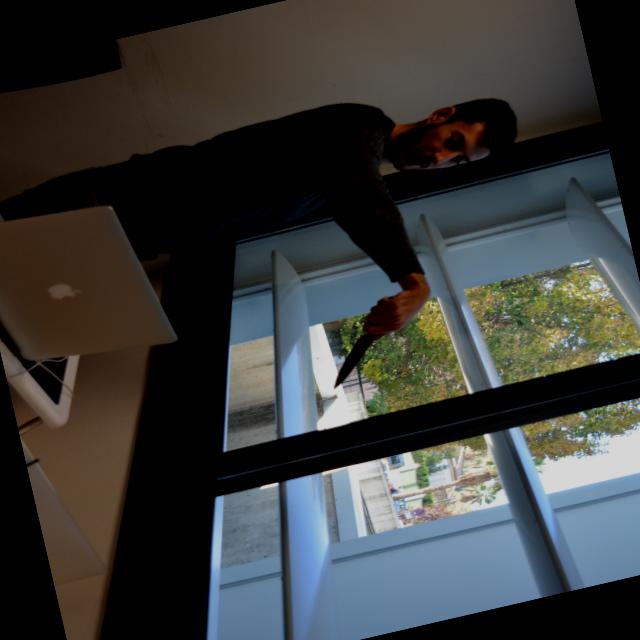knife: (316, 317, 394, 392)
